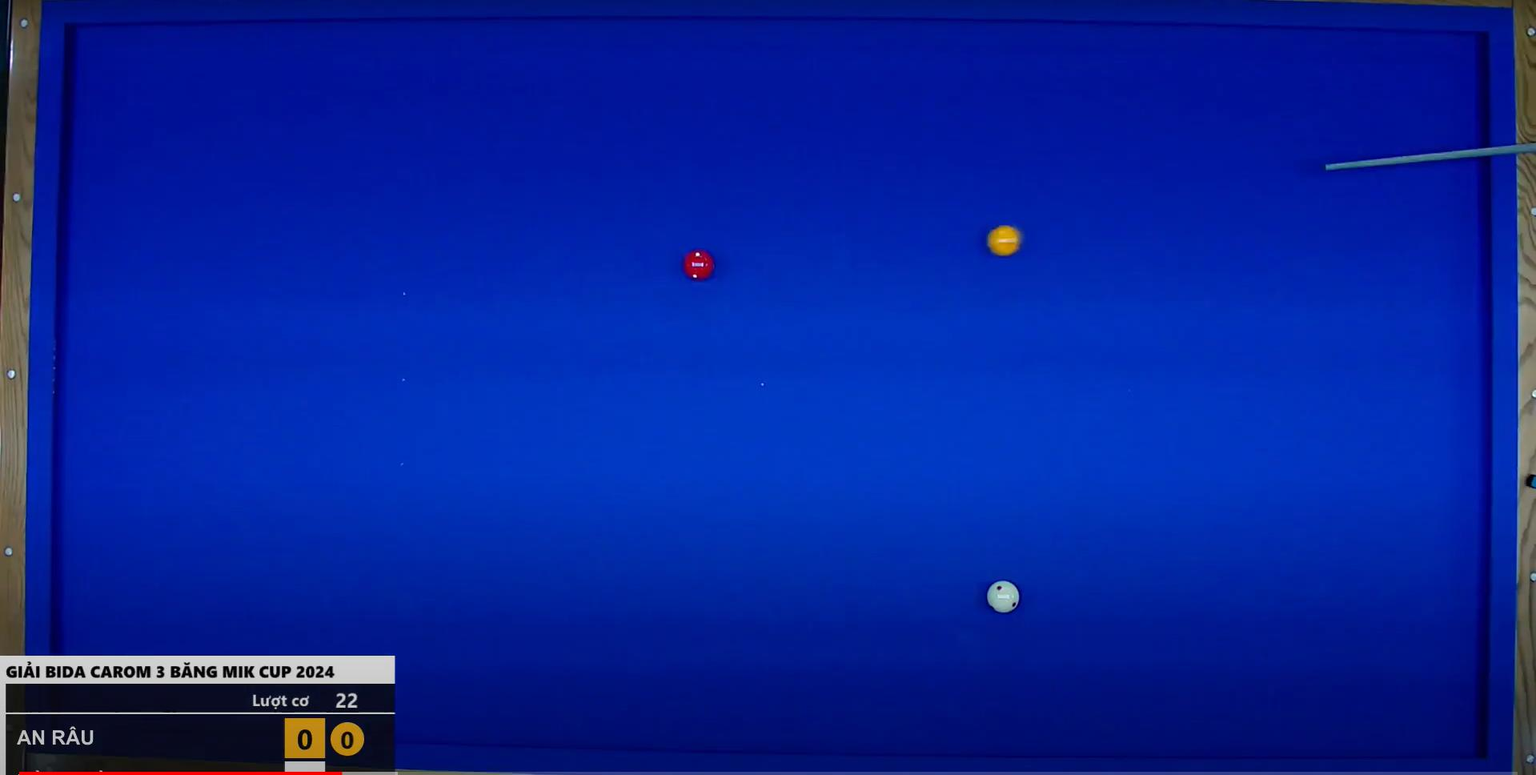red ball: (674, 242, 722, 290)
white ball: (981, 575, 1026, 619)
yellow ball: (982, 217, 1033, 265)
